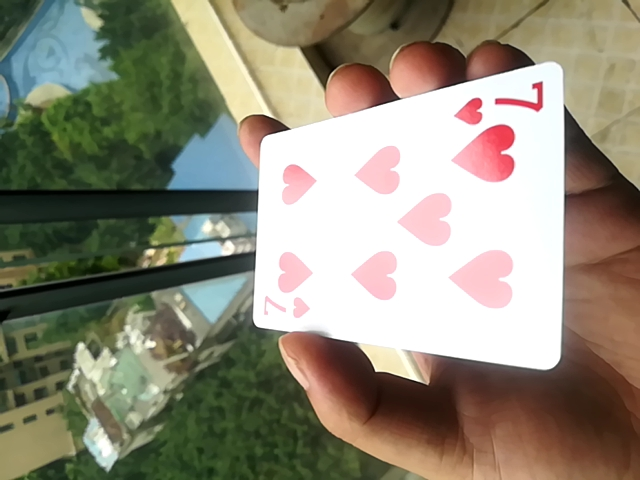hx 7: (244, 66, 570, 372)
